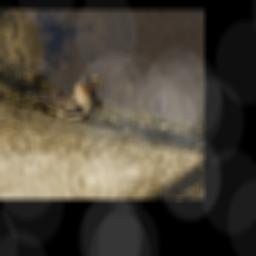Swallow: (26, 71, 111, 130)
